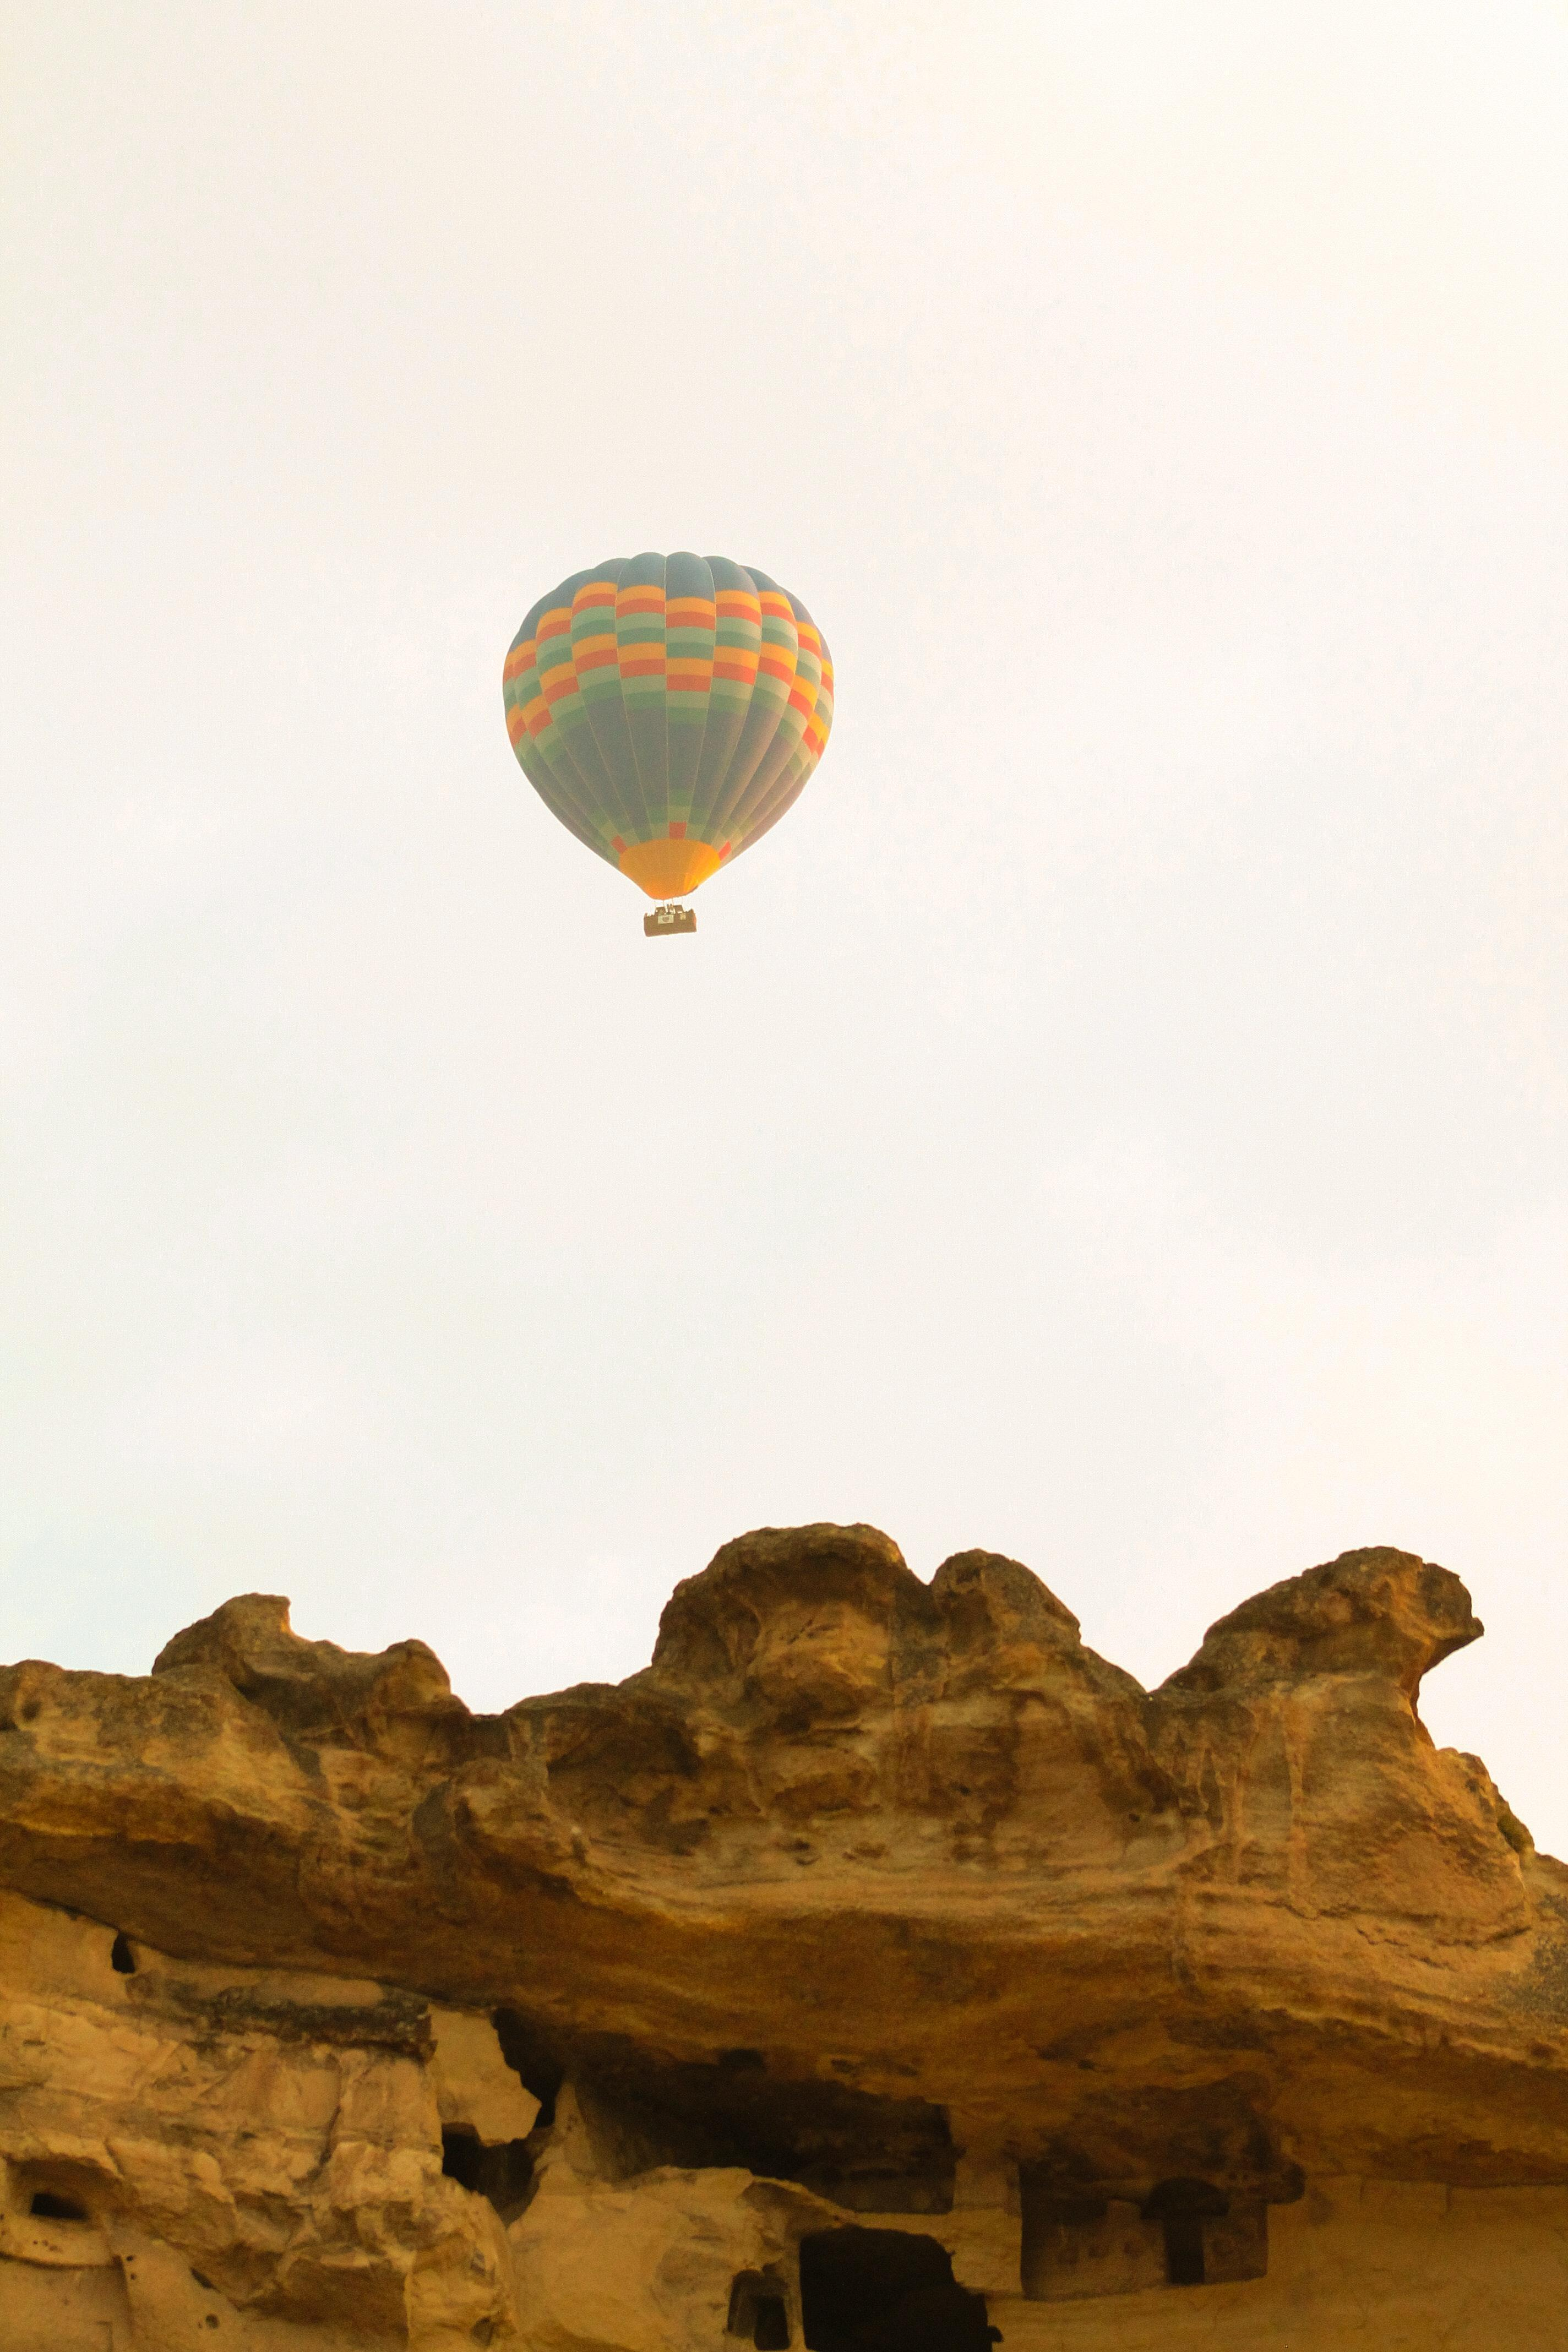hot air ballon: (500, 549, 836, 936)
